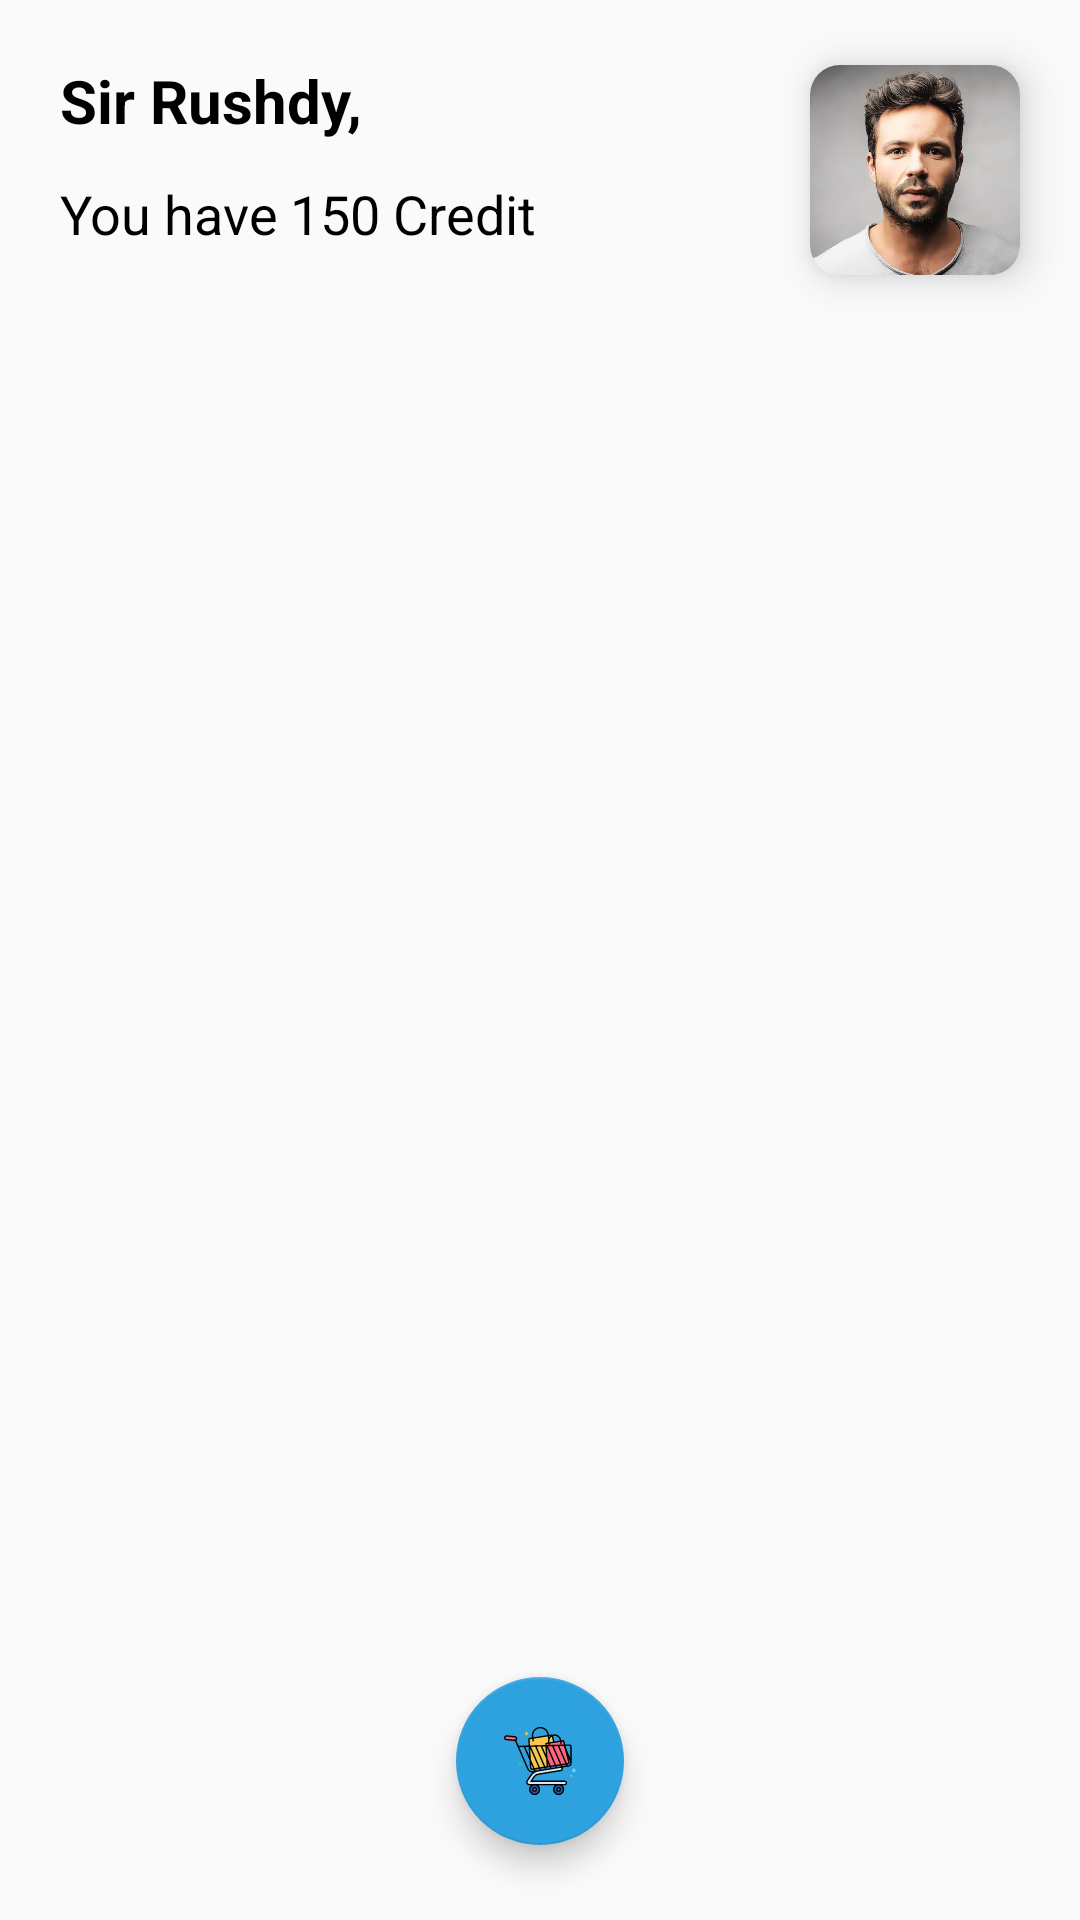

Icon bounding boxes for this 1080 × 1920 phone screenshot, format (x1, y1, x2, y2):
cart: (456, 1677, 624, 1845)
user: (810, 65, 1020, 275)
